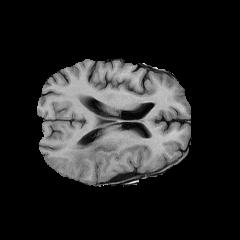glioma: (62, 137, 122, 170)
